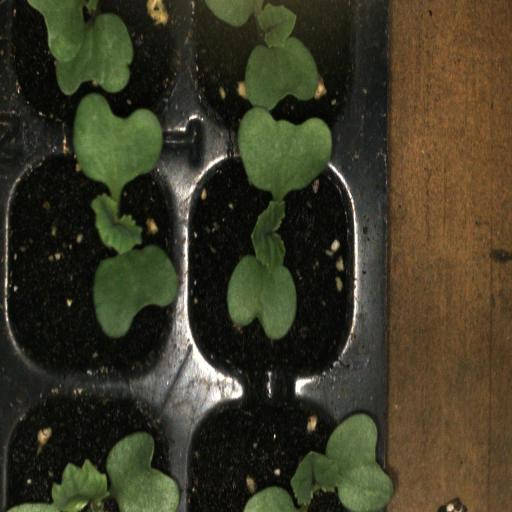Germinacao: (180, 138, 374, 382), (3, 133, 180, 381), (184, 0, 368, 142), (183, 385, 373, 512), (2, 377, 180, 512)
